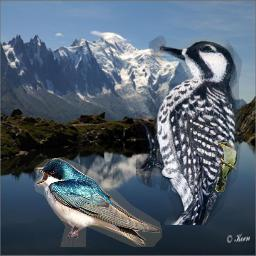Cuckoo: (215, 142, 237, 192)
Swallow: (34, 157, 162, 247)
Woodpecker: (136, 34, 242, 225)
